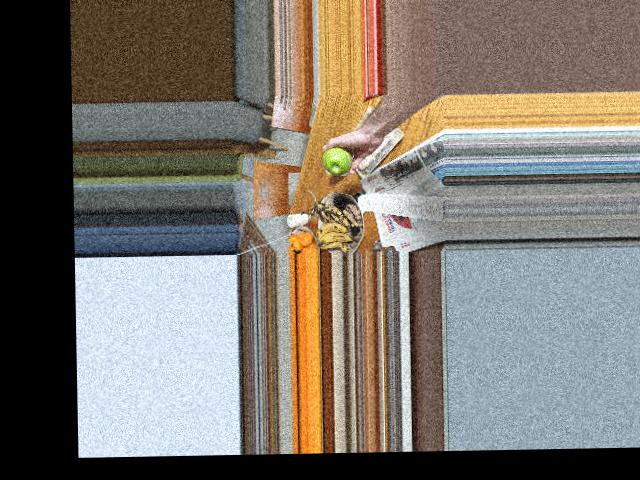apple: (321, 147, 353, 174)
